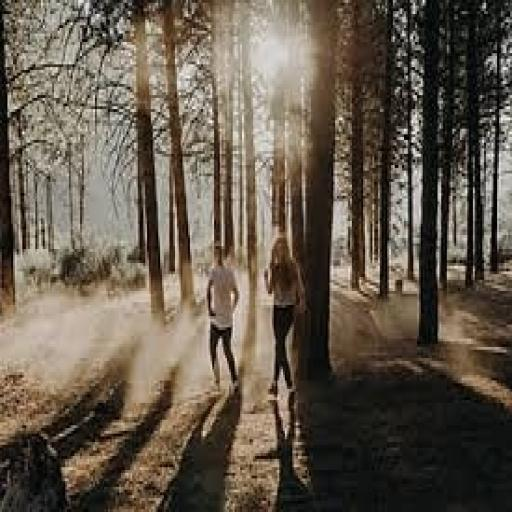running: (261, 232, 309, 400), (201, 238, 244, 394)
